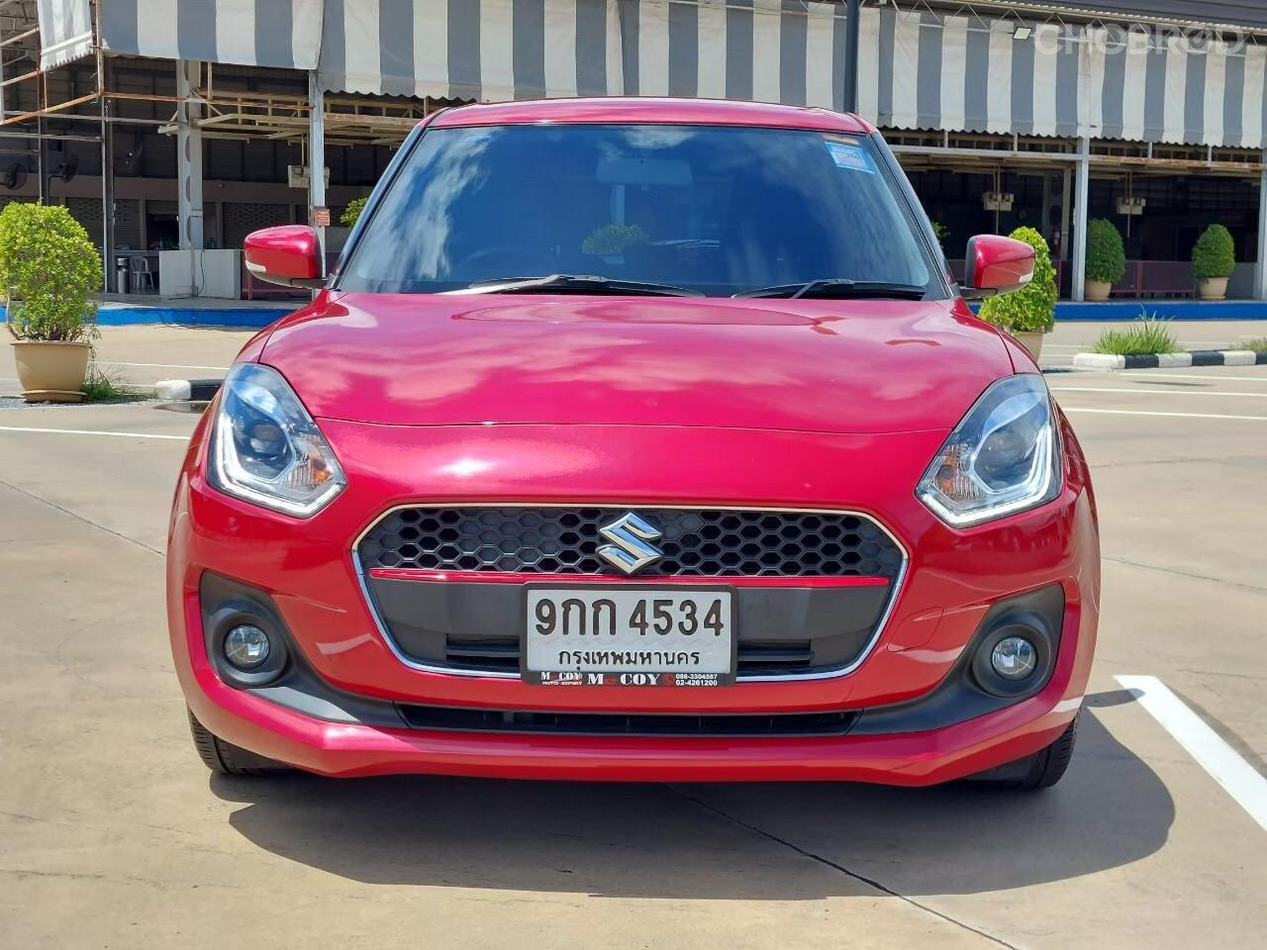license-plate: (515, 575, 740, 694)
